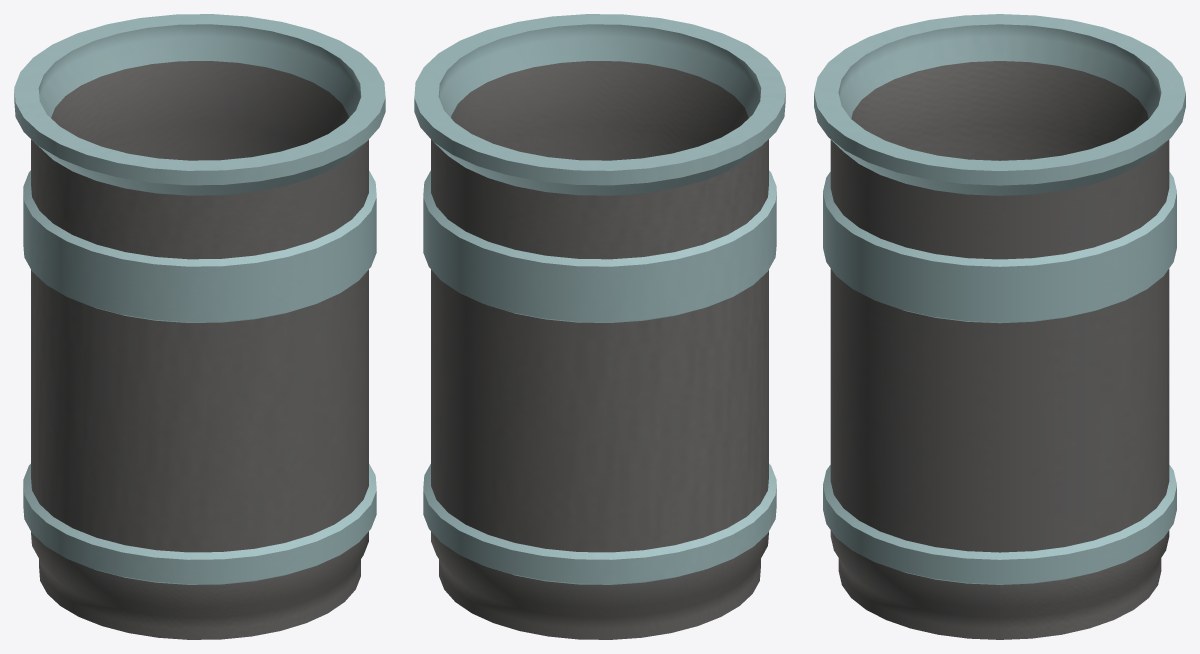
File: TrashCan.fbx
The picture shows the model from 3 angles, left to right: view 1: azimuth 30°, elevation 25°; view 2: azimuth 150°, elevation 25°; view 3: azimuth 270°, elevation 25°; orthographic projection.
Parts seen in each view (by area): view 1: Cylinder; view 2: Cylinder; view 3: Cylinder.
Part boxes in pixels (x1,y1,x2,y2): Cylinder: (14, 14, 385, 639); Cylinder: (414, 14, 785, 639); Cylinder: (814, 14, 1185, 639).
Size of the model in its own units: 231 by 328 by 231.
Materials: 1 (1 with a texture image).
